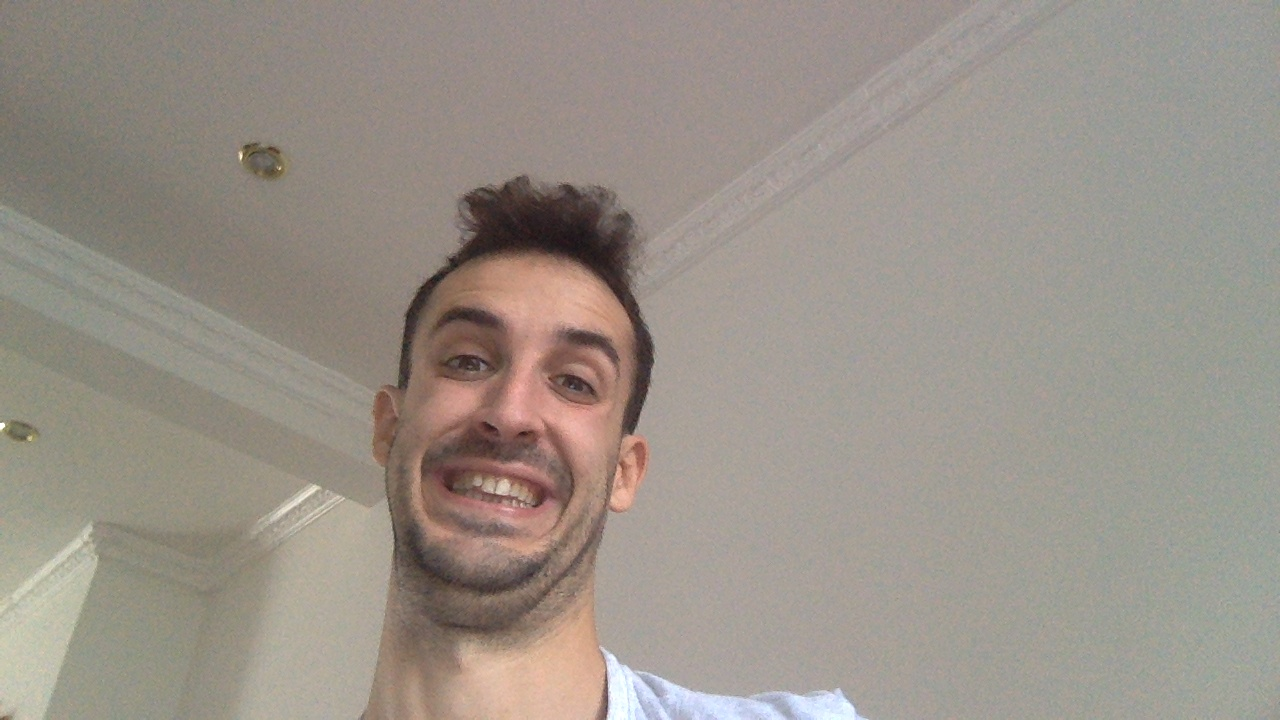smile: (432, 458, 558, 521)
